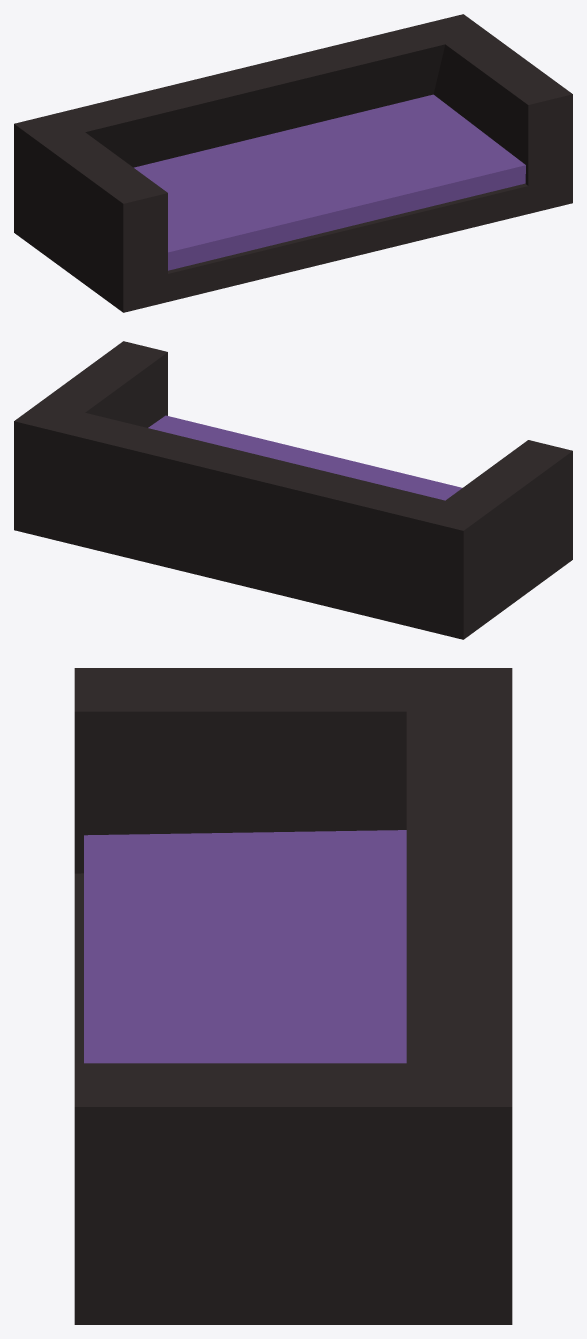
3 renders of one model, top to bottom at view 1: azimuth 30°, elevation 25°; view 2: azimuth 150°, elevation 25°; view 3: azimuth 270°, elevation 25°, orthographic. The views are drawn at different scales.
Parts seen in each view (by area): view 1: BarCouch.027; view 2: BarCouch.027; view 3: BarCouch.027.
Part boxes in pixels (x1,y1,x2,y2): BarCouch.027: [14, 14, 572, 312]; BarCouch.027: [14, 341, 572, 639]; BarCouch.027: [74, 668, 512, 1324].
Size of what is drawn, in the model's own units: 4.74 by 1.1 by 2.
Materials: 1 (1 with a texture image).
